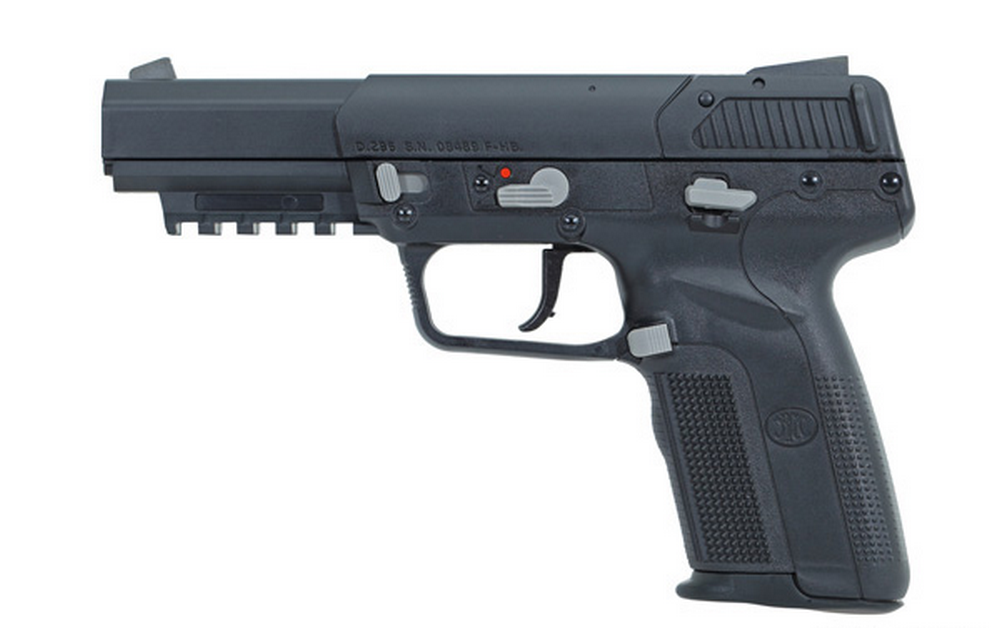Arma Real: (92, 50, 917, 631)
